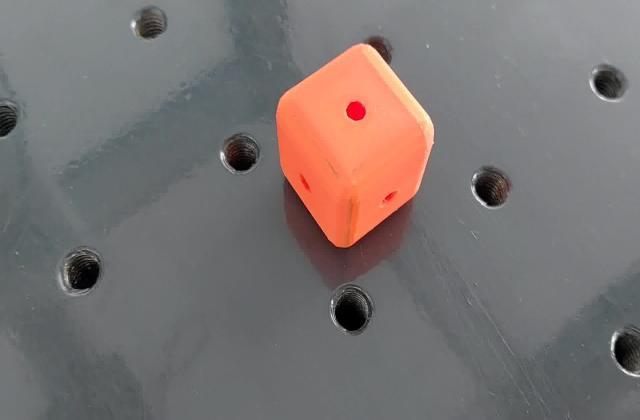cube: (273, 40, 437, 252)
